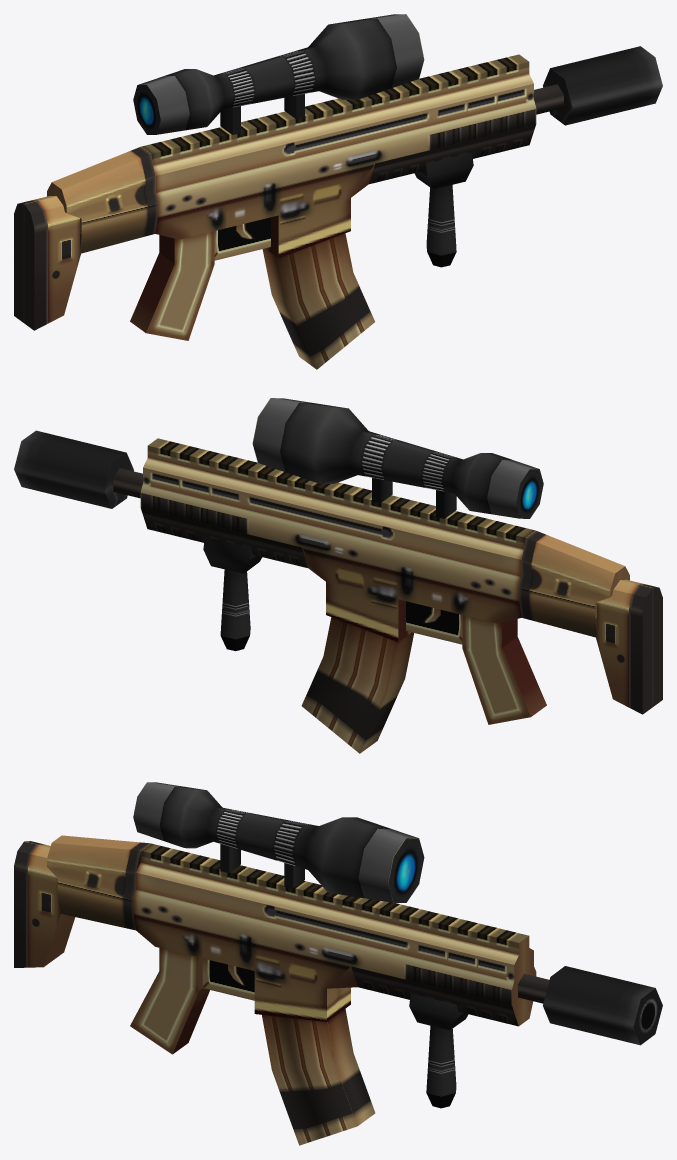
Rendered from rifle scar lv4.FBX.
3 views of the same model, one above another, from view 1: azimuth 30°, elevation 25°; view 2: azimuth 150°, elevation 25°; view 3: azimuth 330°, elevation 25° (orthographic).
Parts seen in each view (by area): view 1: Object060; view 2: Object060; view 3: Object060.
Boxes of the visible parts, left/top/right/bottom form: Object060: left=14, top=14, right=662, bottom=369; Object060: left=14, top=398, right=662, bottom=753; Object060: left=14, top=782, right=662, bottom=1145.
Size of the model in its own units: 84.48 by 42.77 by 9.81.
